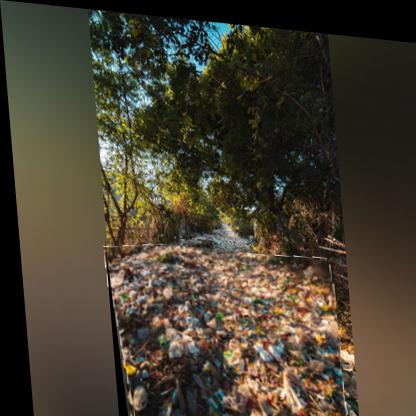Garbage: (101, 237, 343, 416)
